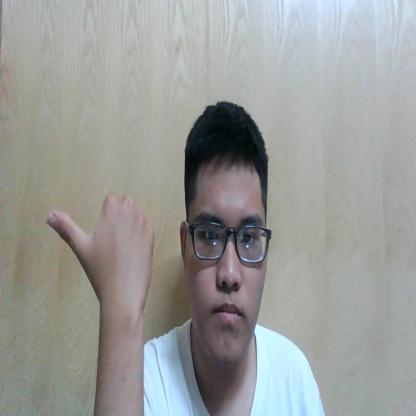right: (47, 193, 153, 313)
